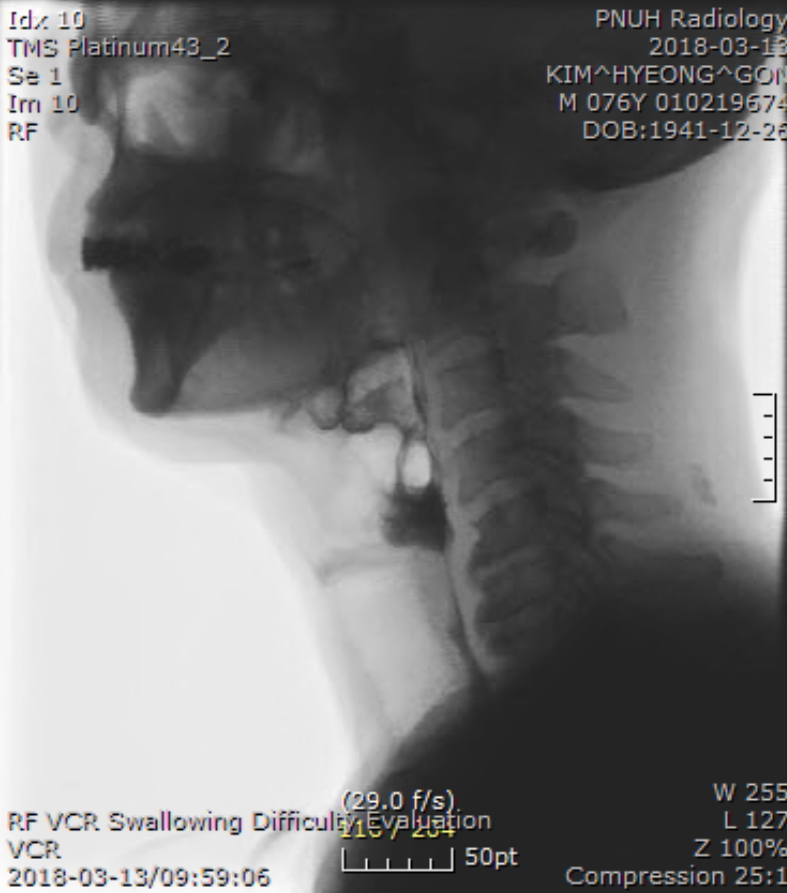dros: (406, 479, 462, 562)
food: (295, 354, 459, 554)
uros: (283, 375, 381, 450)
